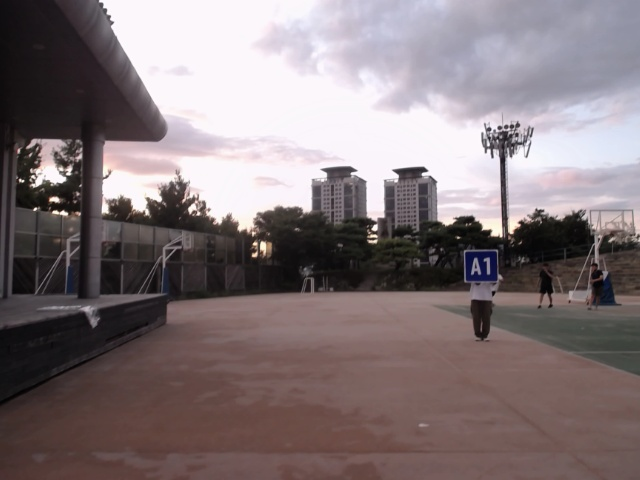delivery_a1: (465, 251, 498, 283)
